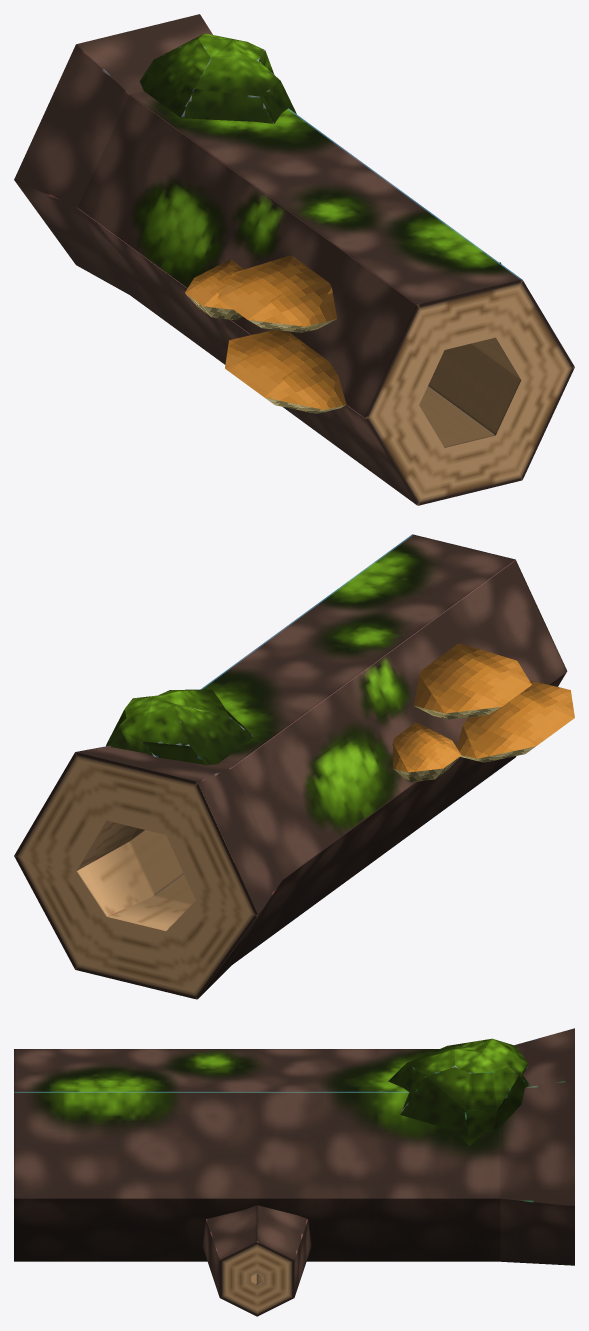
File: Log.fbx
3 renders of one model, top to bottom at view 1: azimuth 30°, elevation 25°; view 2: azimuth 150°, elevation 25°; view 3: azimuth 270°, elevation 25°, orthographic. The views are drawn at different scales.
Parts seen in each view (by area): view 1: FallenLog; view 2: FallenLog; view 3: FallenLog.
Part boxes in pixels (box(x1,y1,x2,y2)): FallenLog: box(14, 14, 574, 505); FallenLog: box(14, 534, 574, 999); FallenLog: box(14, 1028, 574, 1316).
Size of the model in its own units: 109 by 78.94 by 188.
Materials: 3 (3 with a texture image).
